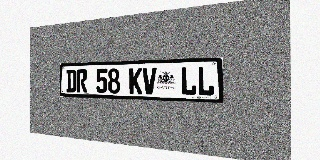5: (96, 69, 108, 93)
8: (108, 68, 120, 94)
D: (66, 69, 76, 92)
K: (129, 68, 142, 94)
L: (197, 66, 214, 96), (181, 66, 197, 96)
R: (77, 69, 87, 93)
V: (143, 67, 156, 94)
